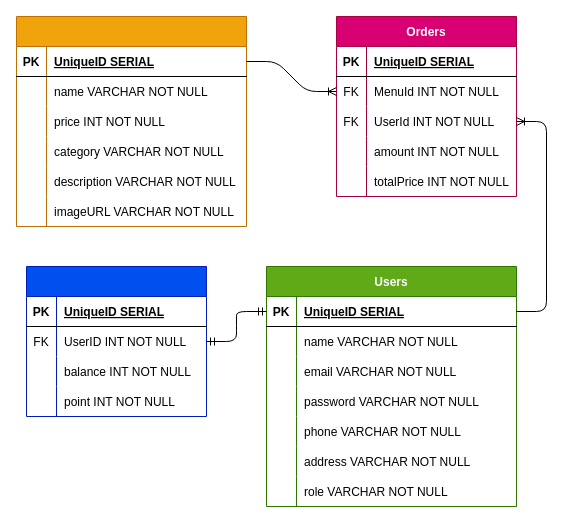
This 563x523 diagram has some shape labels left out. The box of each missing label's shape, as (x1, y1, x2, y2) in pixels:
Menus: (16, 16, 246, 226)
Wallets: (26, 266, 206, 416)
